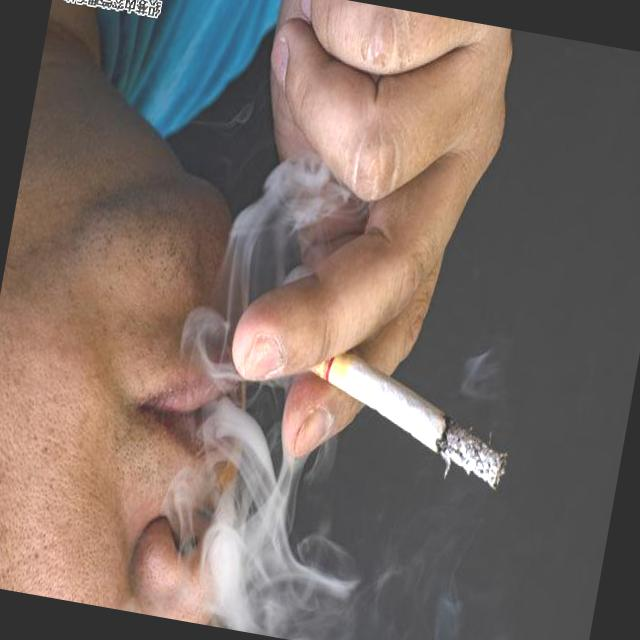smoke: (329, 351, 516, 494)
